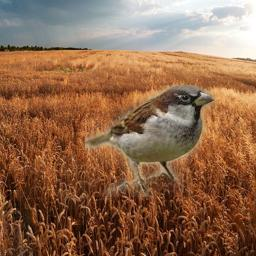Sparrow: (85, 85, 215, 197)
